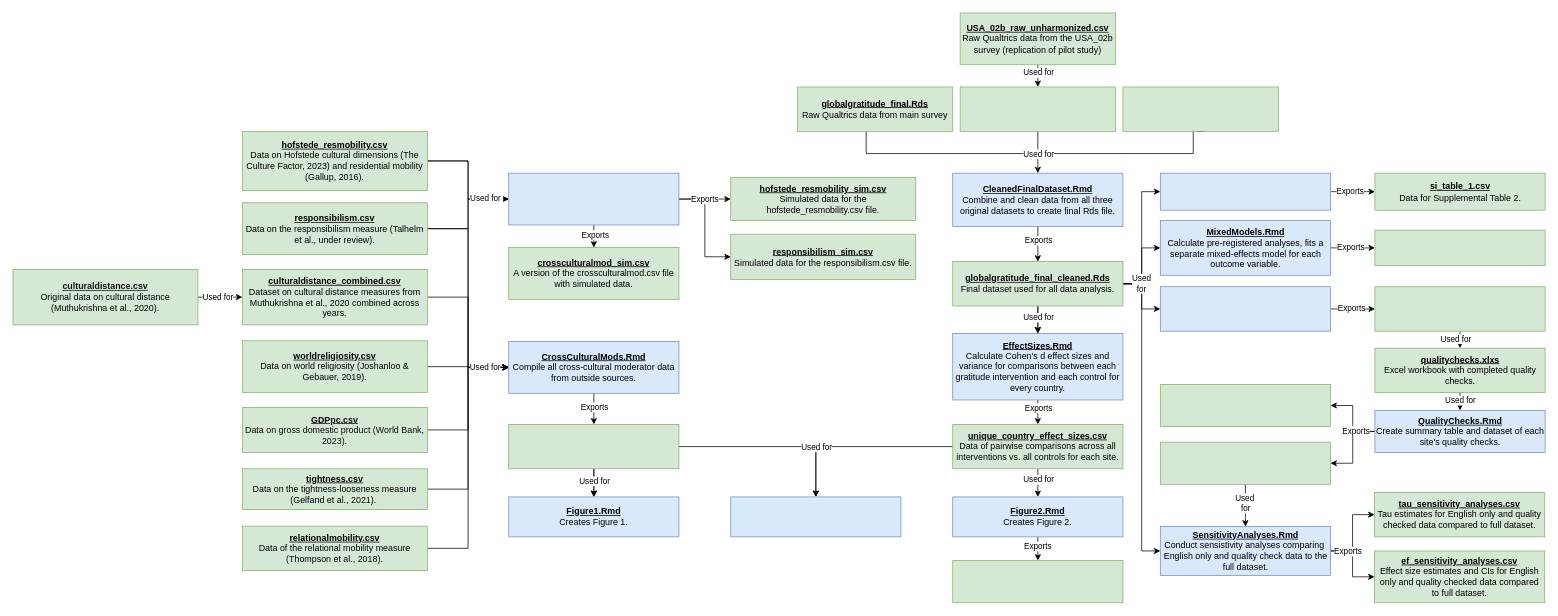
Some shapes in this 1558 by 616 pixel diagram are drawn without their labels. The centre of each missing label's shape, as x and y in pixels:
crossculturalmod.csv Combined dataset with all cross-cultural moderators.: the point at 593,446
Figure3.Rmd Creates Figure 3.: the point at 815,516
labspecific_data.xlsx Excel workbook with survey responses divided by site.: the point at 1459,308
LabSpecificData.Rmd Create Excel workbook with all data for quality checks.: the point at 1245,308
prediction_intervals.csv Compile prediction intervals for all outcomes.: the point at 1037,581
QC_globalgratitude_final_cleaned.Rds Dataset with problematic data removed.: the point at 1245,462
qualitychecks_summary.xlsx Summary table of quality checks.: the point at 1245,405
si_table_3.csv Data for Supplemental Table 3.: the point at 1459,247
SimulatedData .Rmd Create simulated data for non-sharable data.: the point at 593,198
SiteDemographics.Rmd Calculate demographics for each site.: the point at 1245,191
USA_02b_raw_harmonized.csv Harmonized to match with global_gratitude_final.Rds: the point at 1037,108
USA_02c.csv Raw Qualtrics data from USA_02c survey (main survey + 1 module): the point at 1200,108
